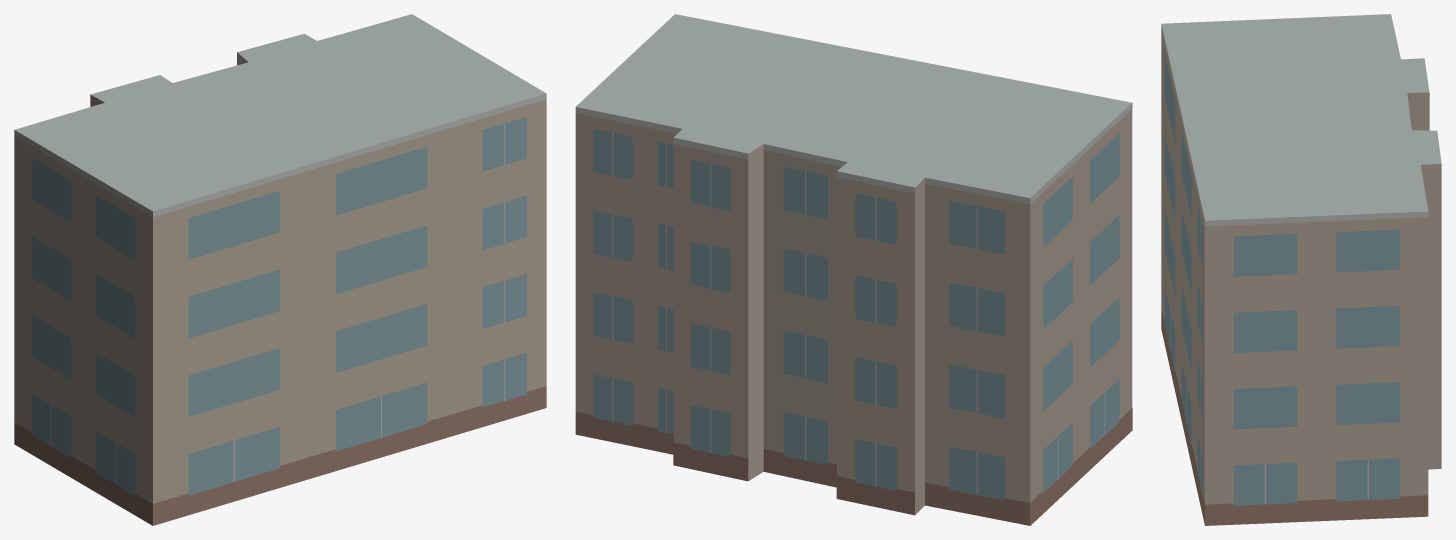
Rendered from survey-upis-32757094.glb.
The picture shows the model from 3 angles, left to right: view 1: azimuth 30°, elevation 25°; view 2: azimuth 150°, elevation 25°; view 3: azimuth 270°, elevation 25°; orthographic projection. The views are drawn at different scales.
Parts seen in each view (by area): view 1: survey-upis-32757094.tmp; view 2: survey-upis-32757094.tmp; view 3: survey-upis-32757094.tmp.
Part boxes in pixels (x1,y1,x2,y2): survey-upis-32757094.tmp: (14,14,546,525); survey-upis-32757094.tmp: (575,14,1132,525); survey-upis-32757094.tmp: (1161,14,1441,525).
Size of the model in its own units: 19.19 by 13.2 by 11.
